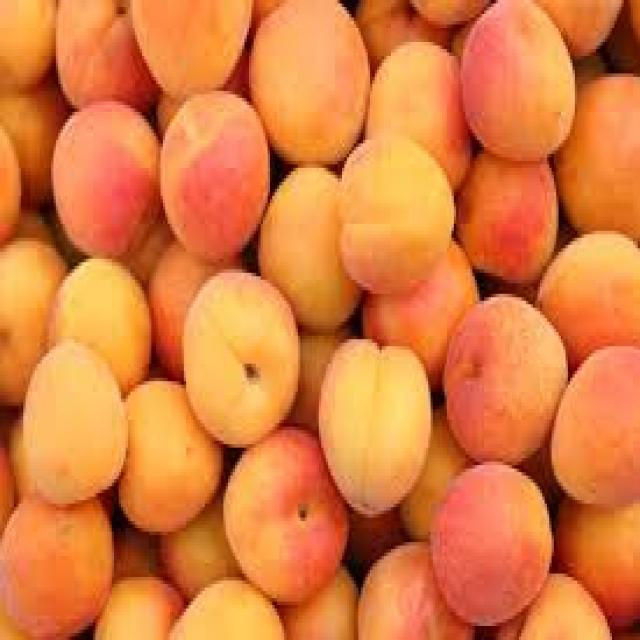kayisi: (4, 3, 638, 637)
